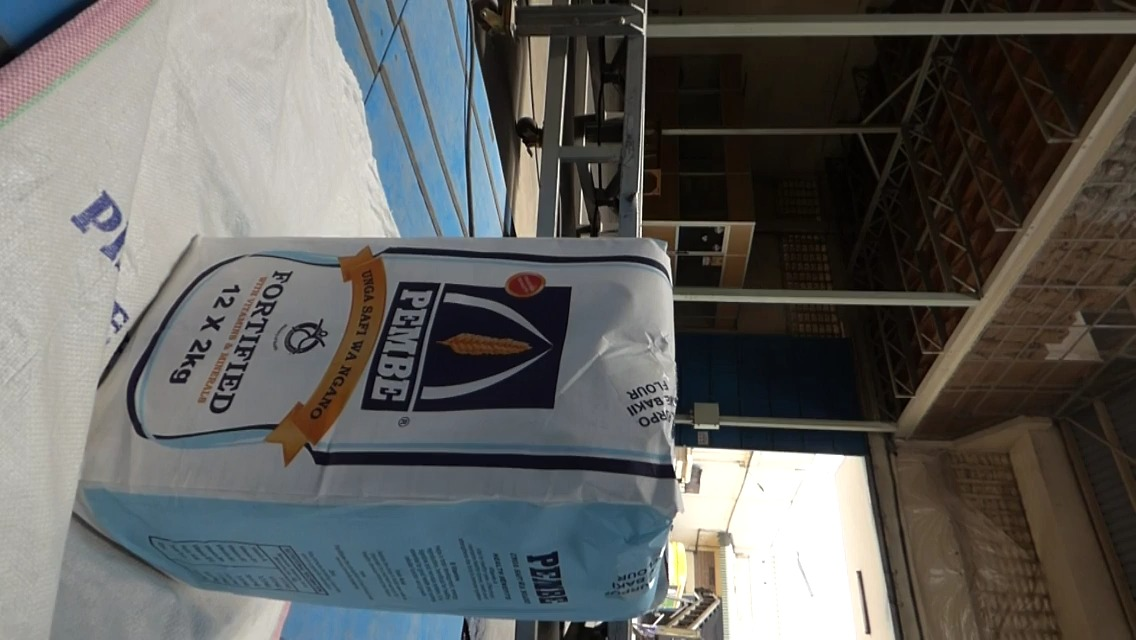wheat_flour_blue_label: (75, 236, 673, 613)
